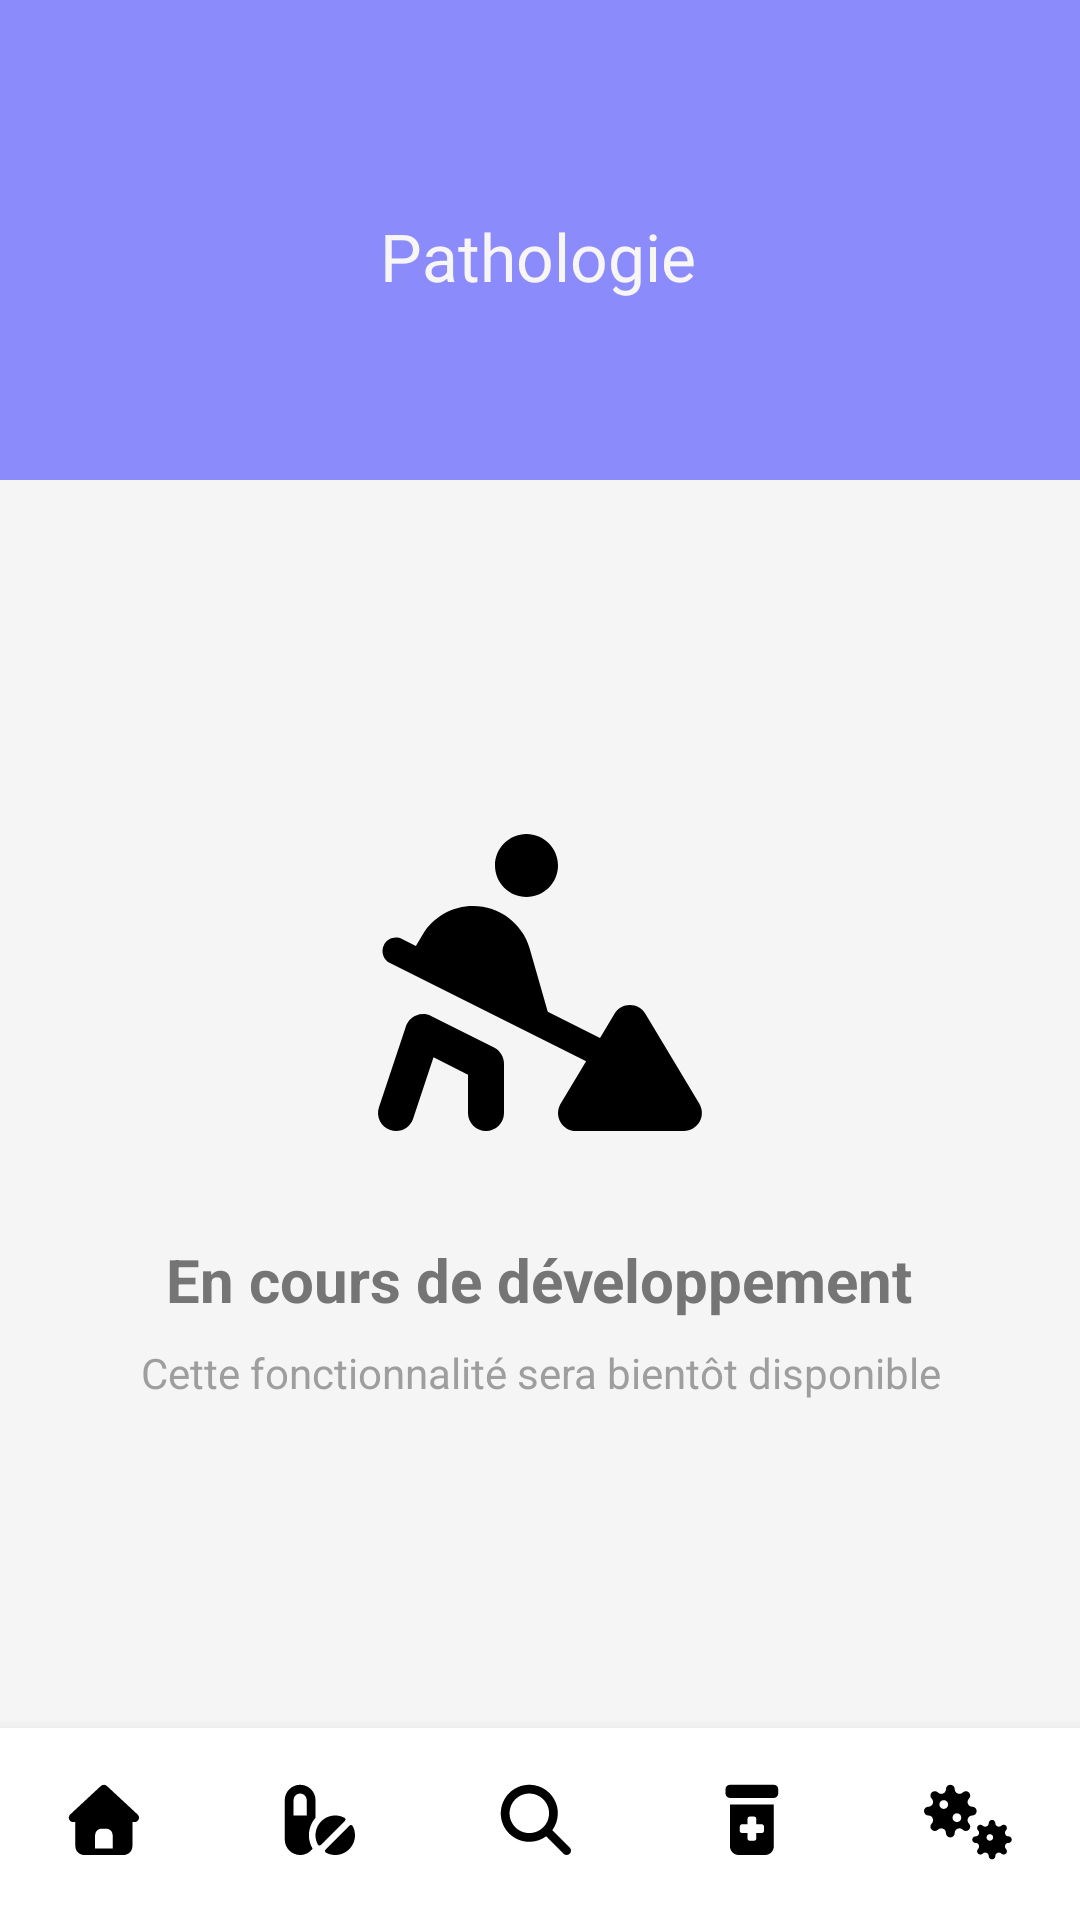

Where to tap for icons on this 1080 x 1920 app screen, as (x=x, y=y):
Accueil: (x=103, y=1819)
construction: (x=540, y=982)
Ordonnances: (x=752, y=1819)
